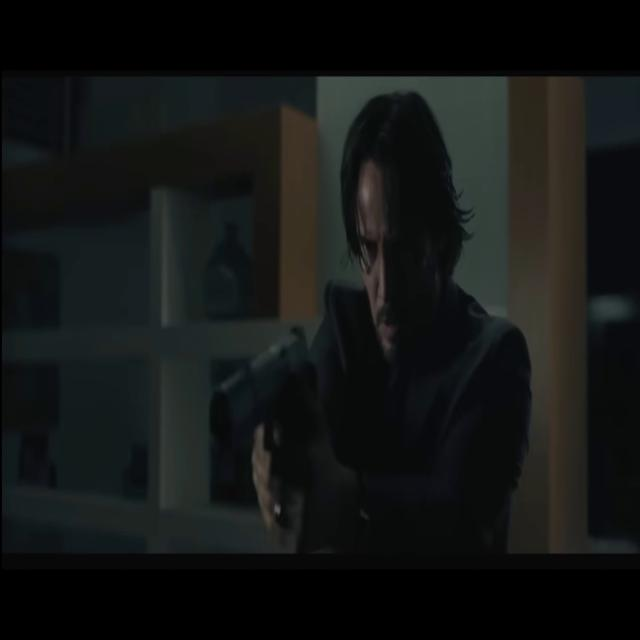weapons: (202, 304, 338, 533)
